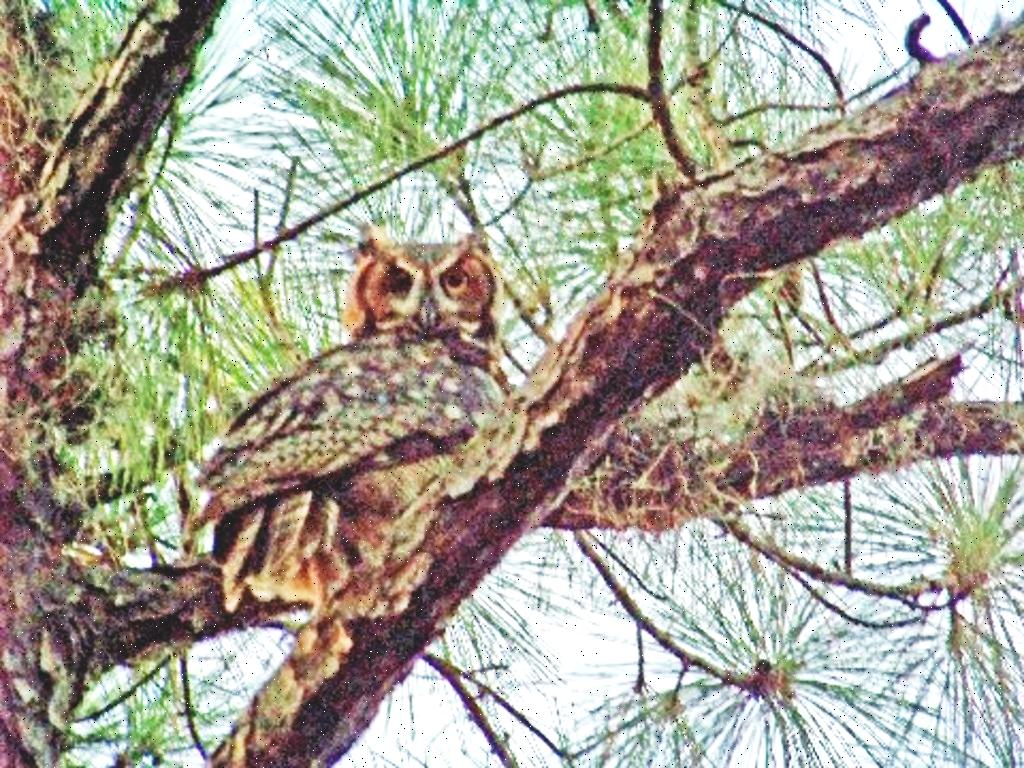Owl: (192, 226, 516, 614)
